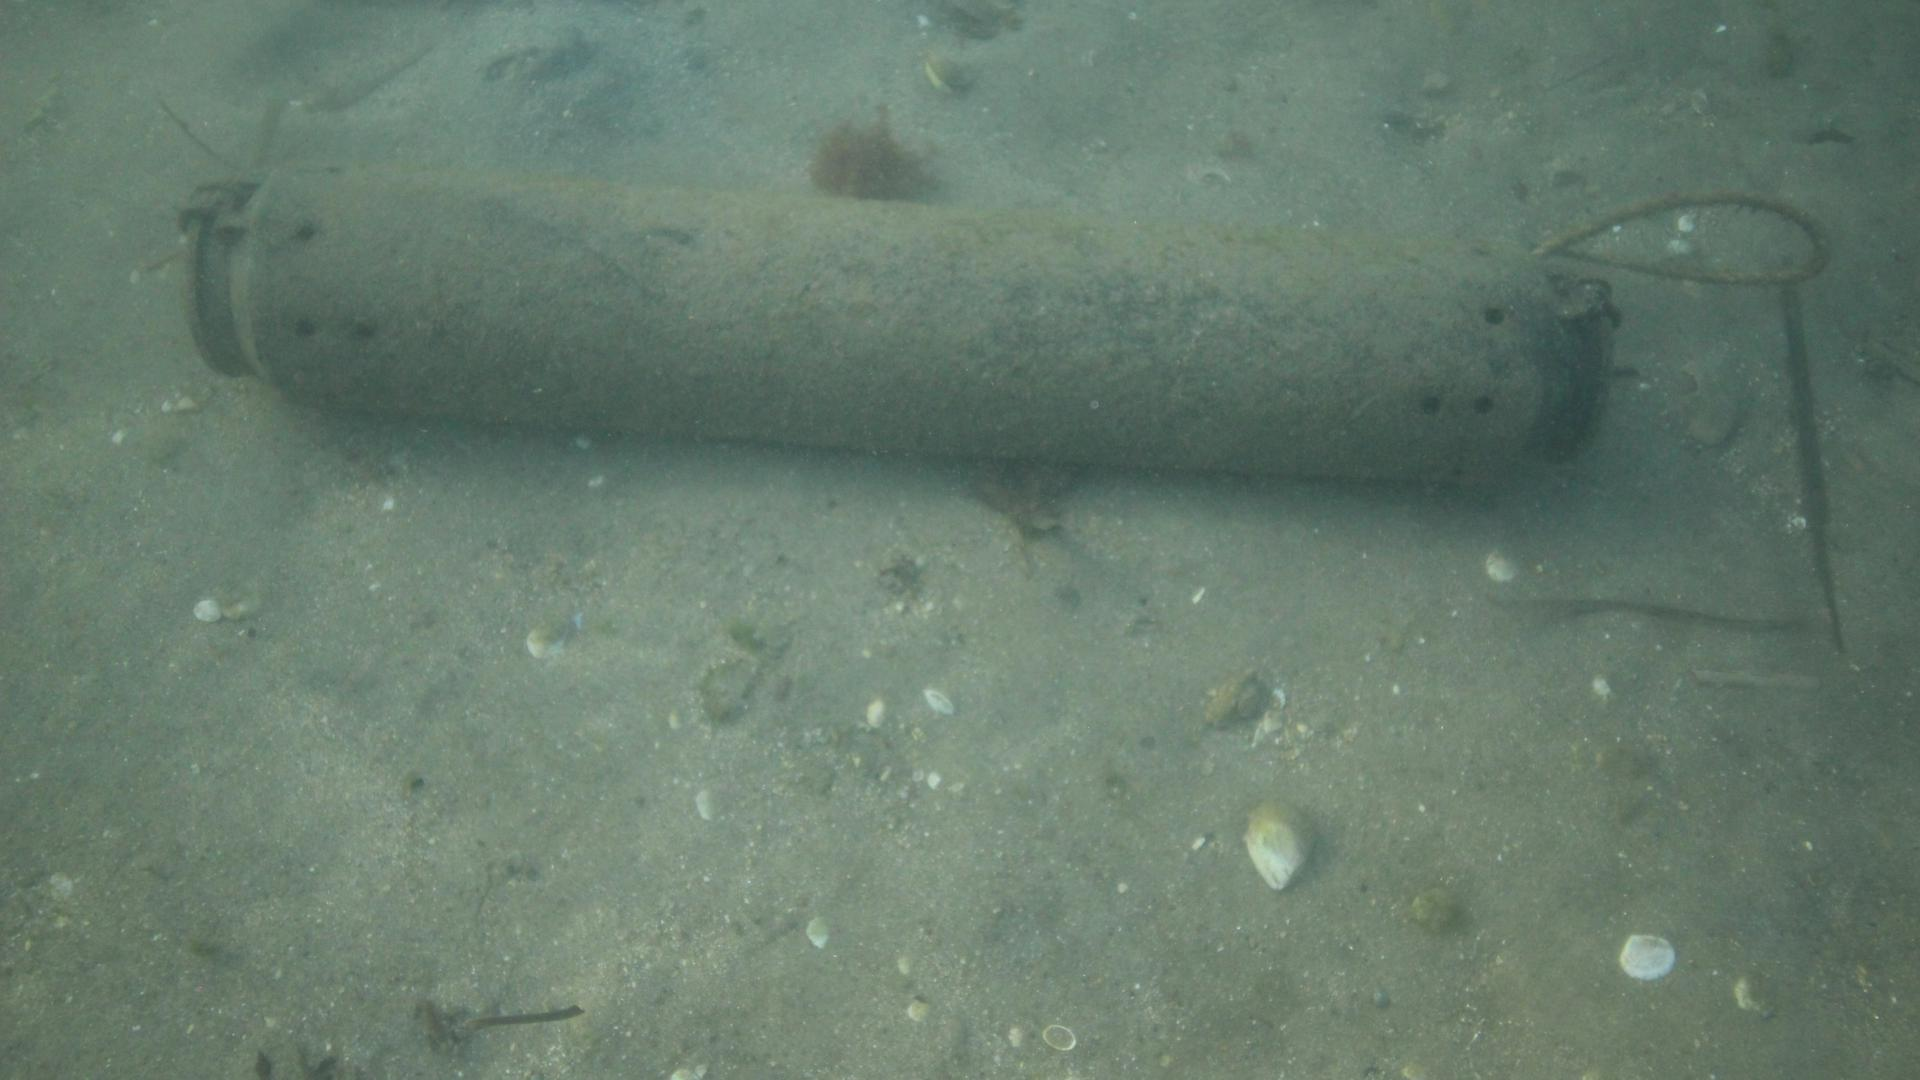eel fish trap: (173, 160, 1619, 492)
rope: (1523, 187, 1833, 289)
